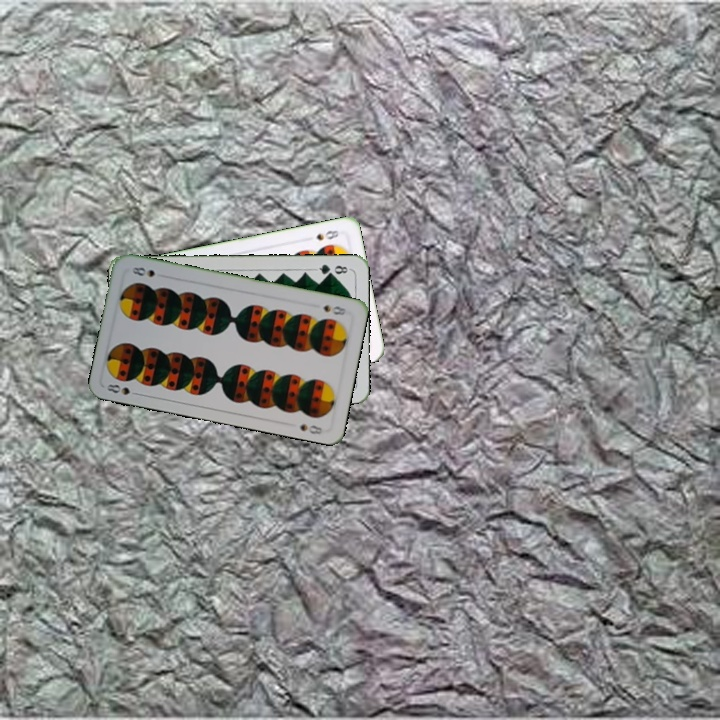G8: (312, 260, 352, 278)
S8: (103, 380, 143, 398), (319, 301, 352, 318), (312, 226, 344, 243)
